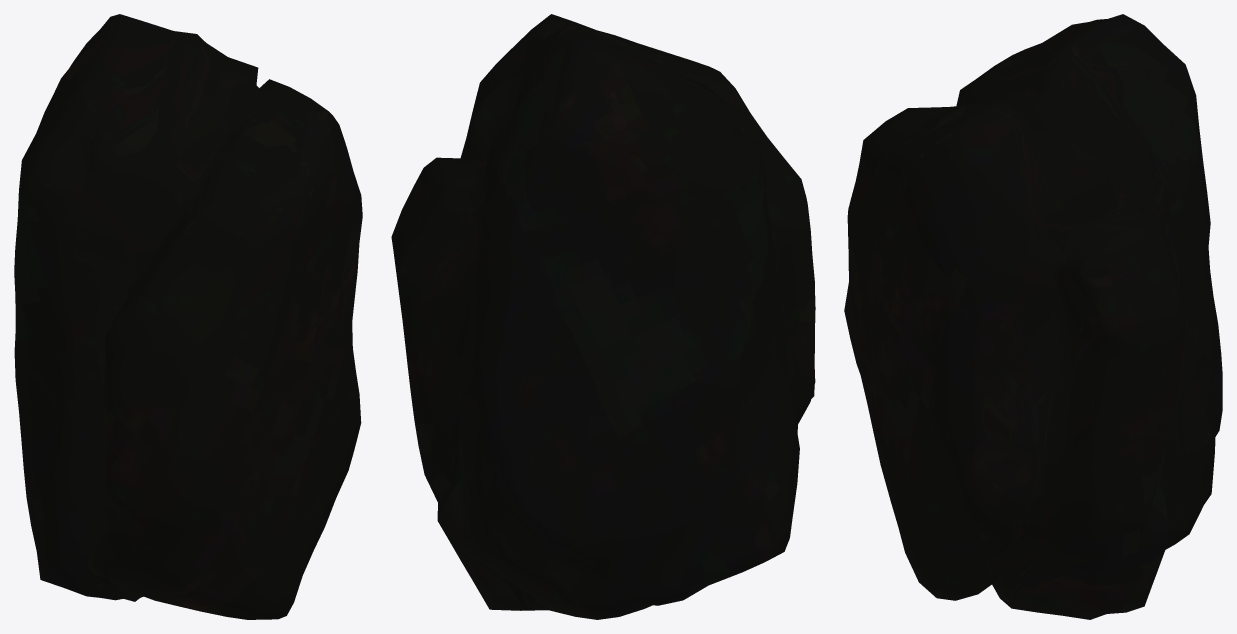
3 views of the same model, side by side, from view 1: azimuth 30°, elevation 25°; view 2: azimuth 150°, elevation 25°; view 3: azimuth 270°, elevation 25° (orthographic). The views are drawn at different scales.
Parts seen in each view (by area): view 1: SM_BM_LimestoneMid_01_LOD0; view 2: SM_BM_LimestoneMid_01_LOD0; view 3: SM_BM_LimestoneMid_01_LOD0.
Part boxes in pixels (<box>): SM_BM_LimestoneMid_01_LOD0: <box>14,14,362,619</box>; SM_BM_LimestoneMid_01_LOD0: <box>391,14,815,619</box>; SM_BM_LimestoneMid_01_LOD0: <box>844,14,1222,619</box>.
Bounding box in the file's own units: 3.09 × 5.13 × 3.16.
1 material, 1 textured.
